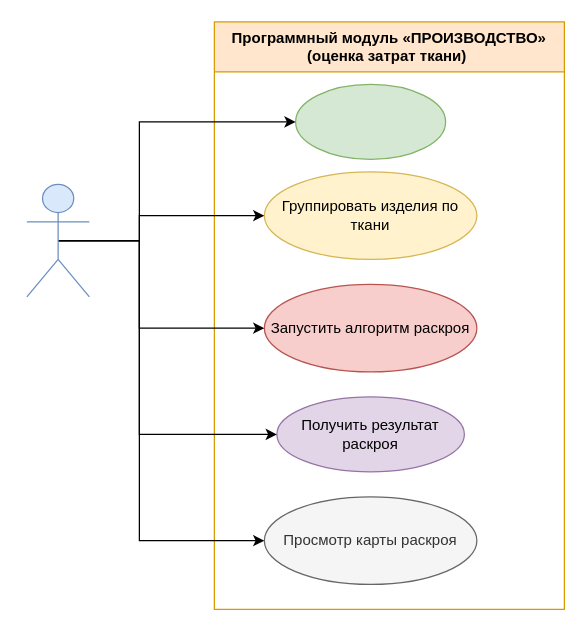
Image size: 586x631. Some labels were removed from this diagram. Here are the shapes that lost their labels. From the top down, the centre of each, then its label:
At pixel 370 121: "Загрузить заказ".
At pixel 57 240: "Менеджер".
